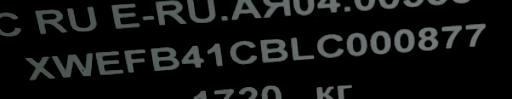letter: (50, 51, 94, 80), (22, 54, 58, 81), (314, 31, 346, 60), (258, 35, 290, 64), (93, 46, 125, 75), (148, 46, 182, 73), (227, 38, 259, 65), (288, 34, 316, 63), (438, 23, 464, 52), (390, 25, 416, 54), (367, 28, 393, 57), (180, 43, 206, 72), (121, 46, 147, 75), (414, 25, 440, 52), (462, 21, 486, 50), (344, 29, 368, 58), (205, 40, 225, 69)
